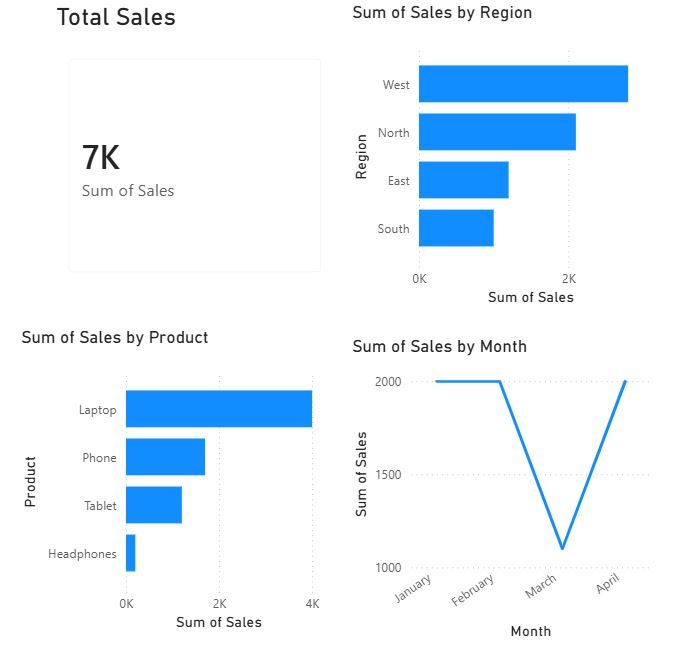

The page's visual inventory and layout, read from the dashboard file:
{"tool":"powerbi","page":{"name":"Page 1","canvas":[1280,720],"ordinal":0},"visuals":[{"type":"cardVisual","title":"Total Sales","fields":{"Data":["Sum(sales_data.Sales)"]},"box":[999.9,0,280.1,280.1],"z":0},{"type":"clusteredBarChart","fields":{"Category":["sales_data.Region"],"Y":["Sum(sales_data.Sales)"]},"box":[677,0,300,300],"z":1},{"type":"clusteredBarChart","fields":{"Category":["sales_data.Product"],"Y":["Sum(sales_data.Sales)"]},"box":[323.9,0,300,300],"z":2},{"type":"lineChart","fields":{"Category":["sales_data.Date.Variation.Date Hierarchy.Month"],"Y":["Sum(sales_data.Sales)"]},"box":[150,420,300,300],"z":3}]}

Visuals, with their boxes on the page's 1280x720 design canvas (x1, y1, x2, y2). These are canvas units, not pixel positions in the 690x665 screenshot, which may show the page scaled, cropped or inside an application window:
"Total Sales" cardVisual: (left=1000, top=0, right=1280, bottom=280)
clusteredBarChart - sales_data.Region x Sum(sales_data.Sales): (left=677, top=0, right=977, bottom=300)
clusteredBarChart - sales_data.Product x Sum(sales_data.Sales): (left=324, top=0, right=624, bottom=300)
lineChart - sales_data.Date.Variation.Date Hierarchy.Month x Sum(sales_data.Sales): (left=150, top=420, right=450, bottom=720)
